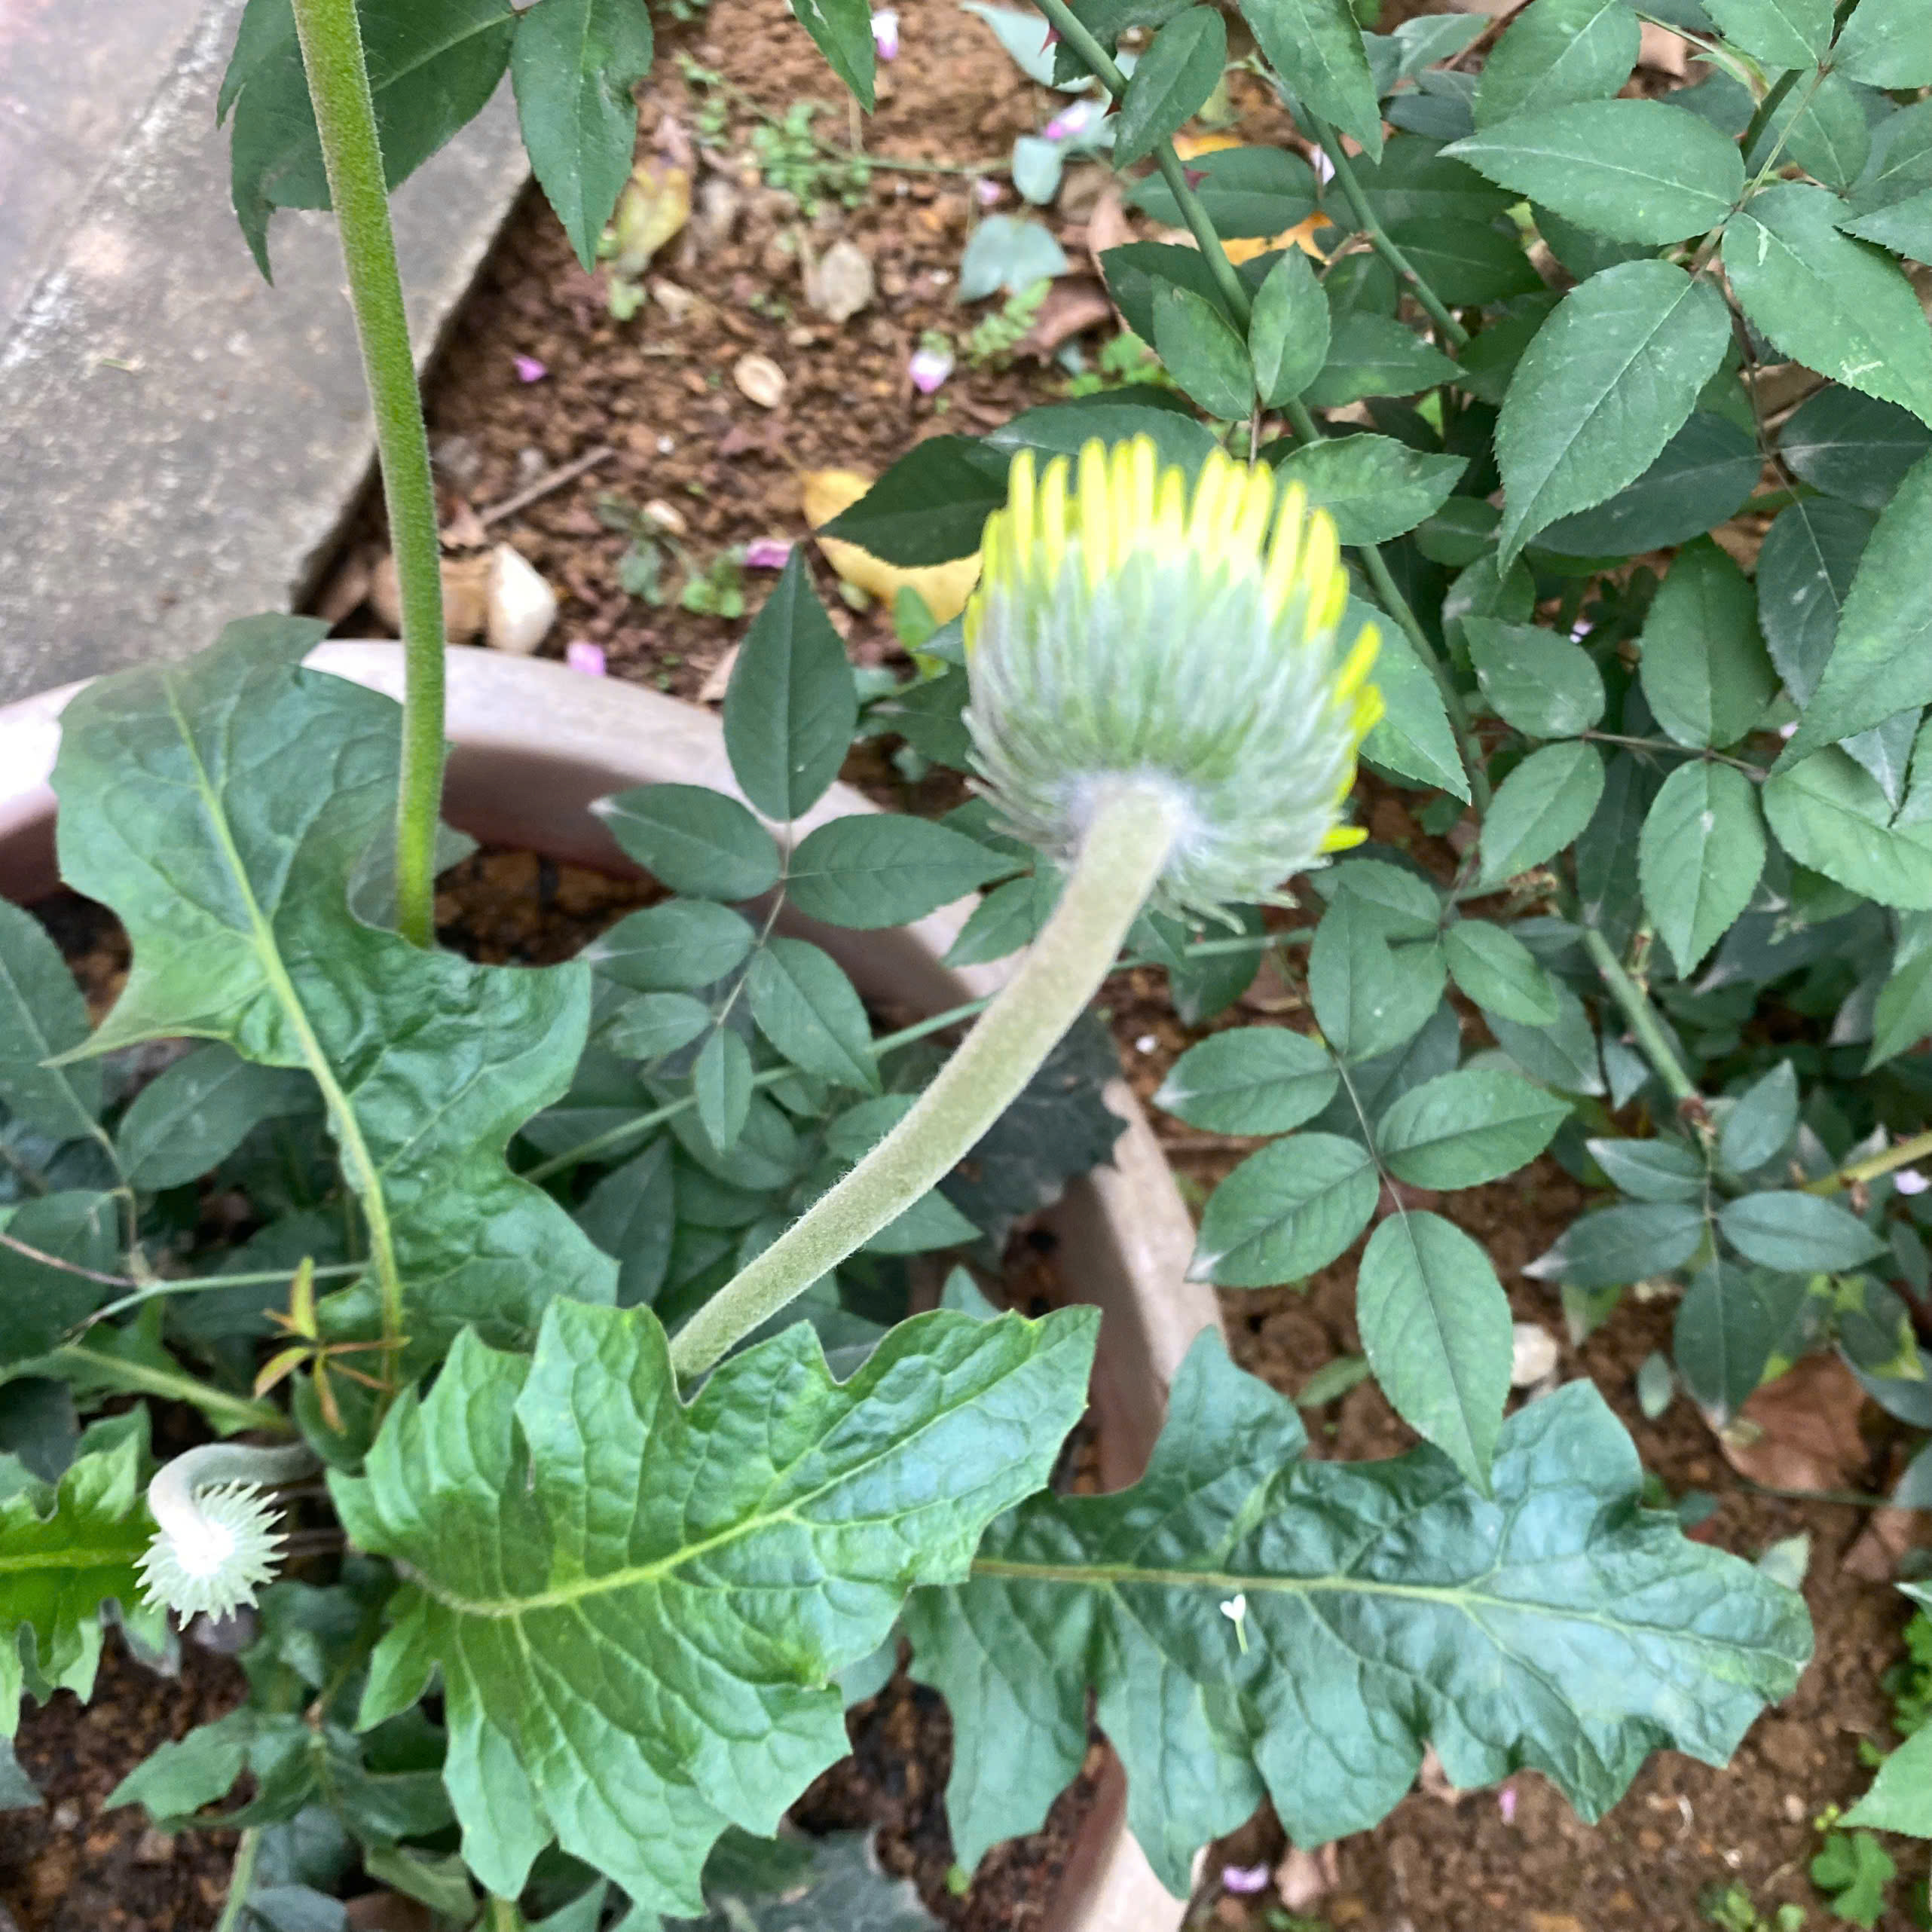hoa_huong_duong: (0, 409, 1467, 1916)
